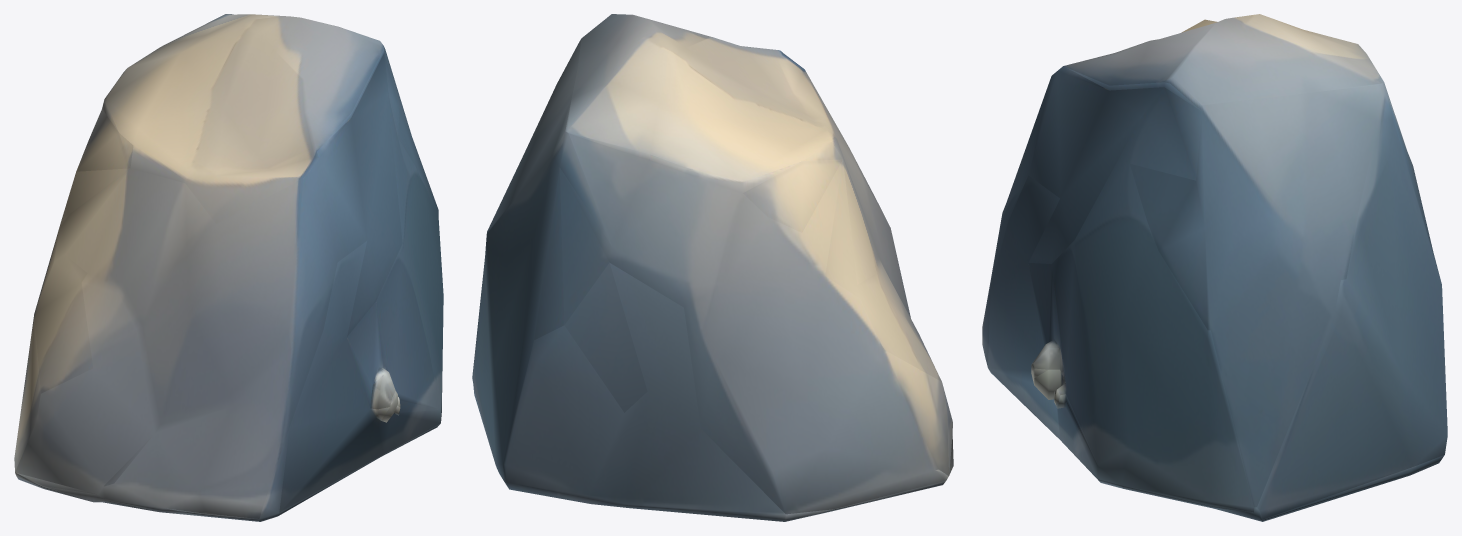
3 renders of one model, left to right at view 1: azimuth 30°, elevation 25°; view 2: azimuth 150°, elevation 25°; view 3: azimuth 270°, elevation 25°, orthographic. The views are drawn at different scales.
Visible parts, largest first — view 1: coast-rock-2; view 2: coast-rock-2; view 3: coast-rock-2.
Part boxes in pixels (box(x1,y1,x2,y2)): coast-rock-2: box(14, 14, 443, 521); coast-rock-2: box(472, 14, 953, 521); coast-rock-2: box(982, 14, 1447, 521).
Size of the model in its own units: 0.2018 by 0.1703 by 0.1701.
1 material, 1 textured.
